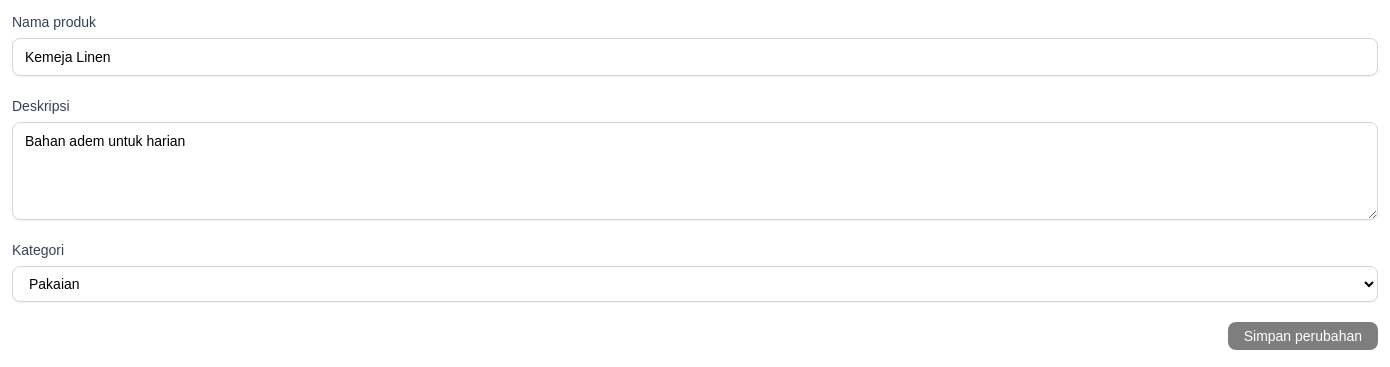
Scenario: ProductEditForm › Inisialisasi Data & Status Dirty › mengaktifkan tombol submit saat field diubah dan menonaktifkannya lagi jika dikembalikan ke nilai awal
Expected: the button "Simpan perubahan" is disabled, x1=1228 y1=322 x2=1378 y2=350
Replace the text in the field labelled "Nama produk" with "Kemeja Katun". click: [695, 57]
box: x1=12 y1=38 x2=1378 y2=76
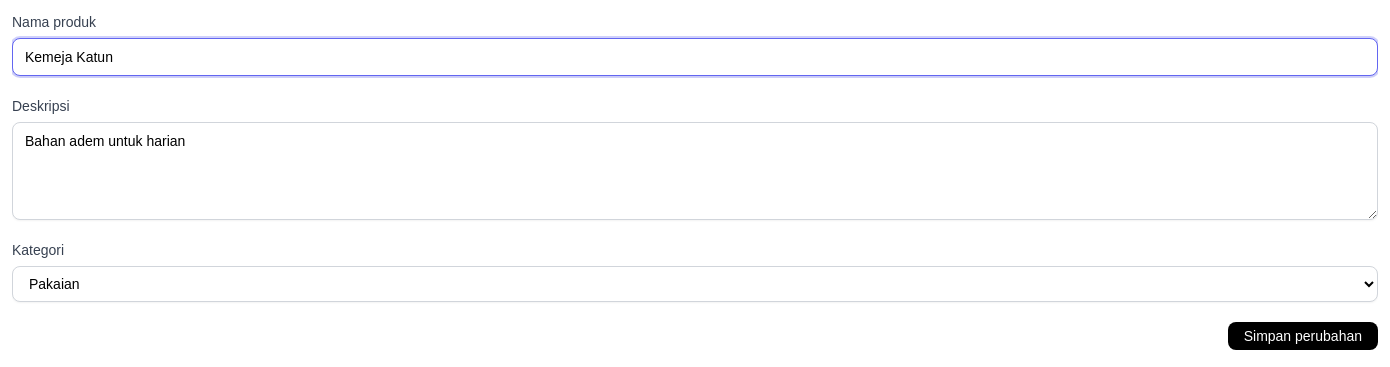
Expected: the button "Simpan perubahan" is enabled, x1=1228 y1=322 x2=1378 y2=350
Replace the text in the field labelled "Nama produk" with "Kemeja Linen". click: [695, 57]
box: x1=12 y1=38 x2=1378 y2=76
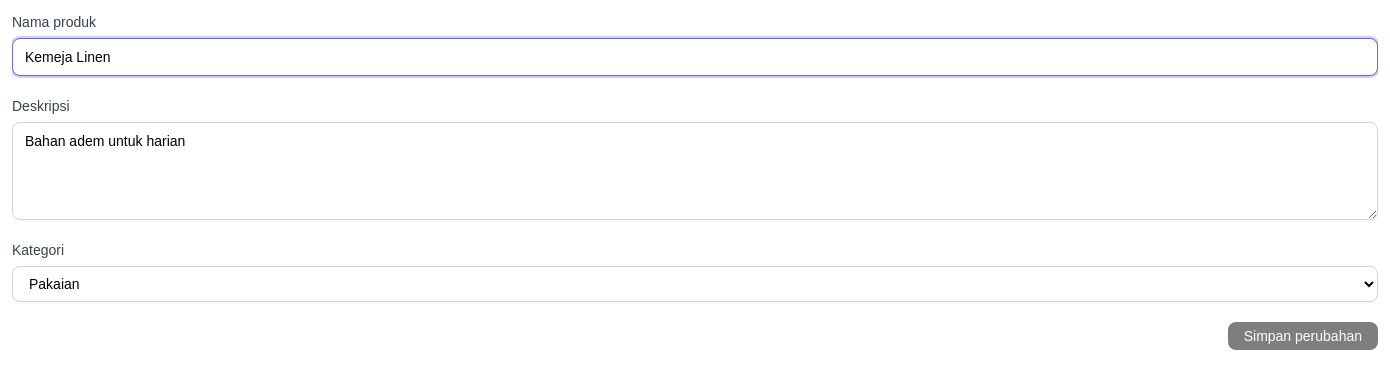
Expected: the button "Simpan perubahan" is disabled, x1=1228 y1=322 x2=1378 y2=350
